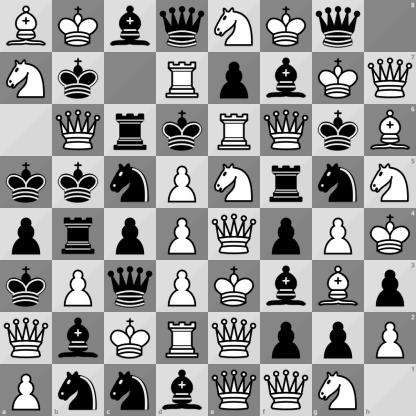B: (364, 104, 416, 156), (1, 1, 52, 52), (313, 261, 364, 312)
K: (364, 209, 416, 260), (53, 1, 104, 52), (105, 313, 156, 364), (209, 261, 260, 312), (261, 1, 312, 52), (313, 53, 364, 104)
N: (364, 156, 416, 209), (312, 364, 364, 416), (1, 53, 52, 104), (209, 1, 260, 52), (209, 157, 260, 208)
P: (0, 364, 52, 416), (364, 312, 416, 364), (53, 261, 104, 312), (157, 157, 208, 208), (157, 209, 208, 260), (157, 261, 208, 312), (313, 209, 364, 260)
Q: (260, 364, 312, 416), (364, 52, 416, 104), (209, 364, 260, 416), (1, 313, 52, 364), (53, 105, 104, 156), (209, 209, 260, 260), (209, 313, 260, 364), (261, 105, 312, 156)
R: (157, 53, 208, 104), (157, 313, 208, 364), (209, 105, 260, 156)
b: (156, 364, 209, 416), (53, 313, 104, 364), (105, 1, 156, 52), (261, 53, 312, 104), (261, 261, 312, 312)
board: (0, 0, 415, 415)
k: (1, 157, 52, 208), (1, 261, 52, 312), (53, 53, 104, 104), (53, 157, 104, 208), (157, 105, 208, 156), (313, 105, 364, 156)
n: (52, 364, 104, 416), (104, 364, 156, 416), (105, 157, 156, 208), (313, 157, 364, 208)
p: (364, 260, 416, 312), (1, 209, 52, 260), (105, 209, 156, 260), (209, 53, 260, 104), (261, 209, 312, 260), (261, 313, 312, 364), (313, 313, 364, 364)
q: (105, 261, 156, 312), (157, 1, 208, 52), (313, 1, 364, 52)
r: (53, 209, 104, 260), (105, 105, 156, 156), (261, 157, 312, 208)
